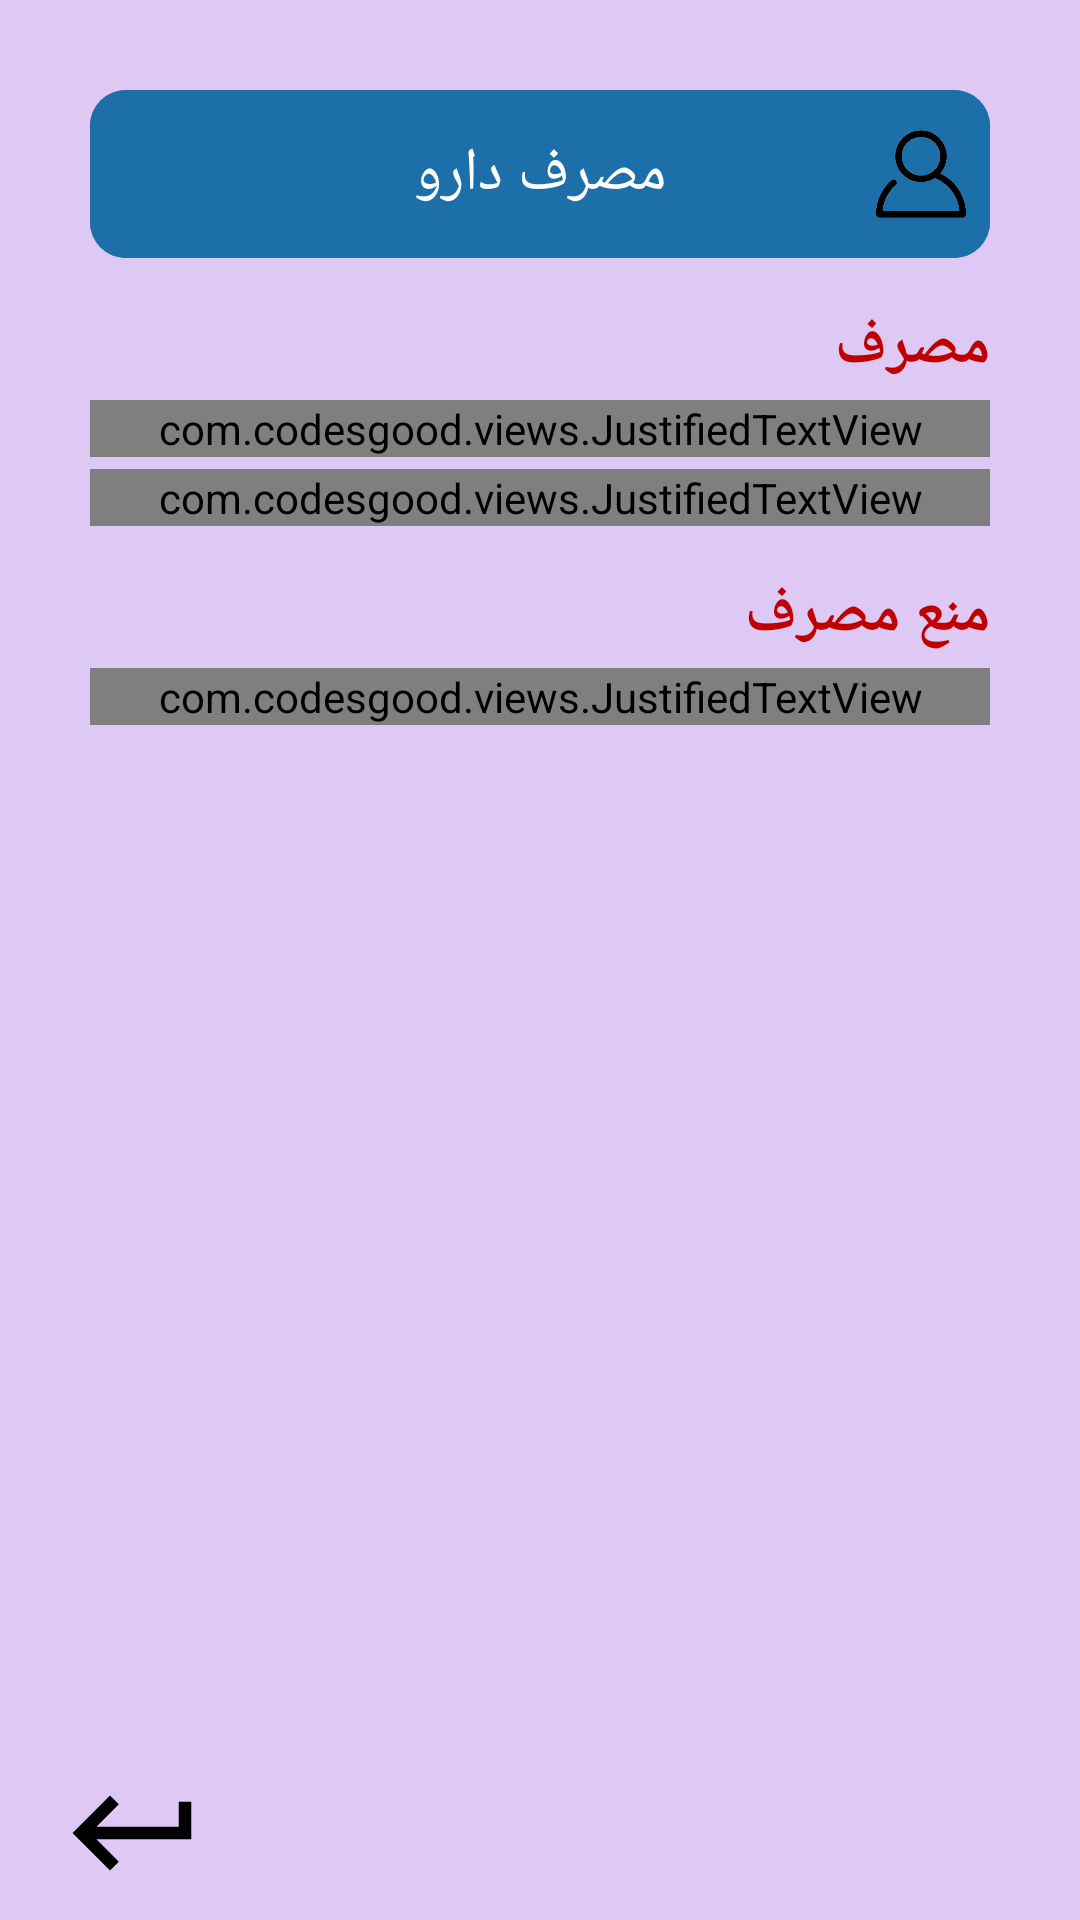

Icons on this 1080 × 1920 Android screen, each with the point to tap as [x,y]:
keyboard return: [132,1833]
